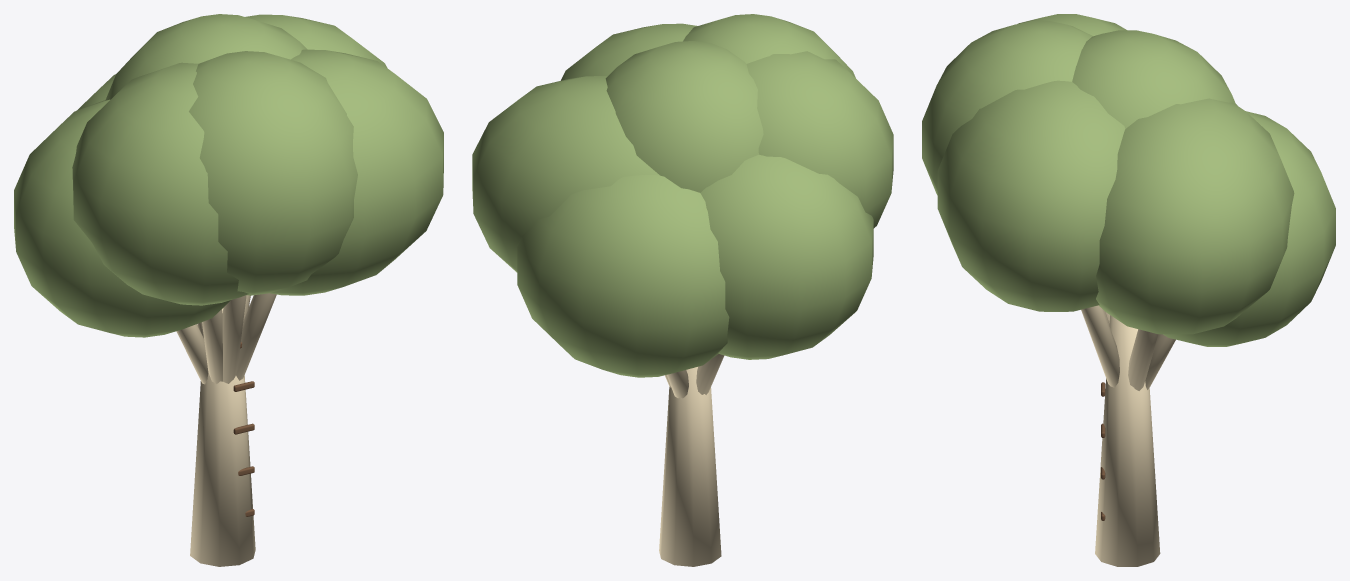
Rendered from birch.glb.
3 views of the same model, side by side, from view 1: azimuth 30°, elevation 25°; view 2: azimuth 150°, elevation 25°; view 3: azimuth 270°, elevation 25° (orthographic). The views are drawn at different scales.
Parts seen in each view (by area): view 1: birch_World_Mesh; view 2: birch_World_Mesh; view 3: birch_World_Mesh.
Part boxes in pixels (bbox=[...]): birch_World_Mesh: bbox=[14, 14, 443, 566]; birch_World_Mesh: bbox=[472, 14, 893, 566]; birch_World_Mesh: bbox=[922, 14, 1335, 566].
Size of the model in its own units: 2.58 by 3.47 by 2.54.
